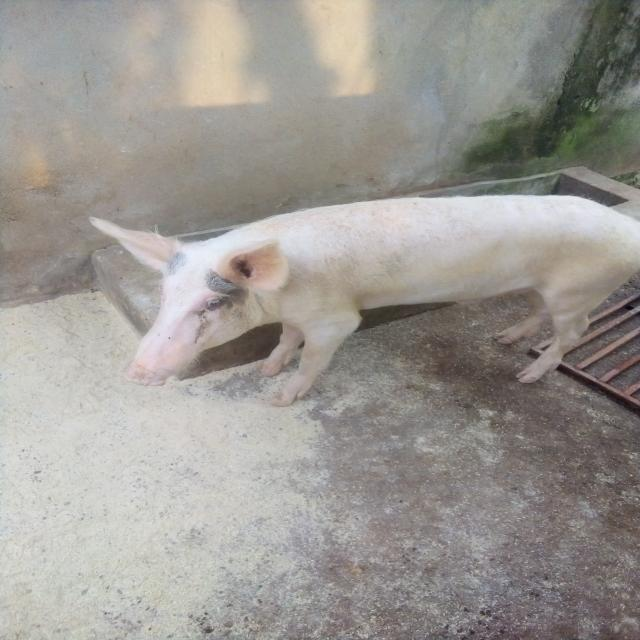pig: (55, 126, 640, 464)
